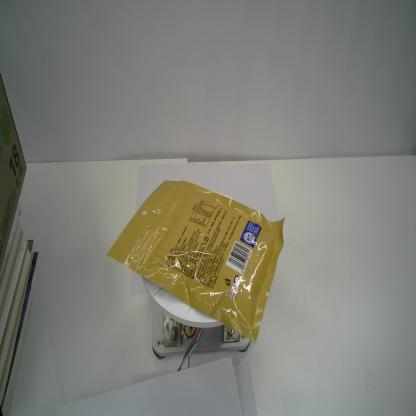Dried Fruit: (107, 180, 285, 343)
